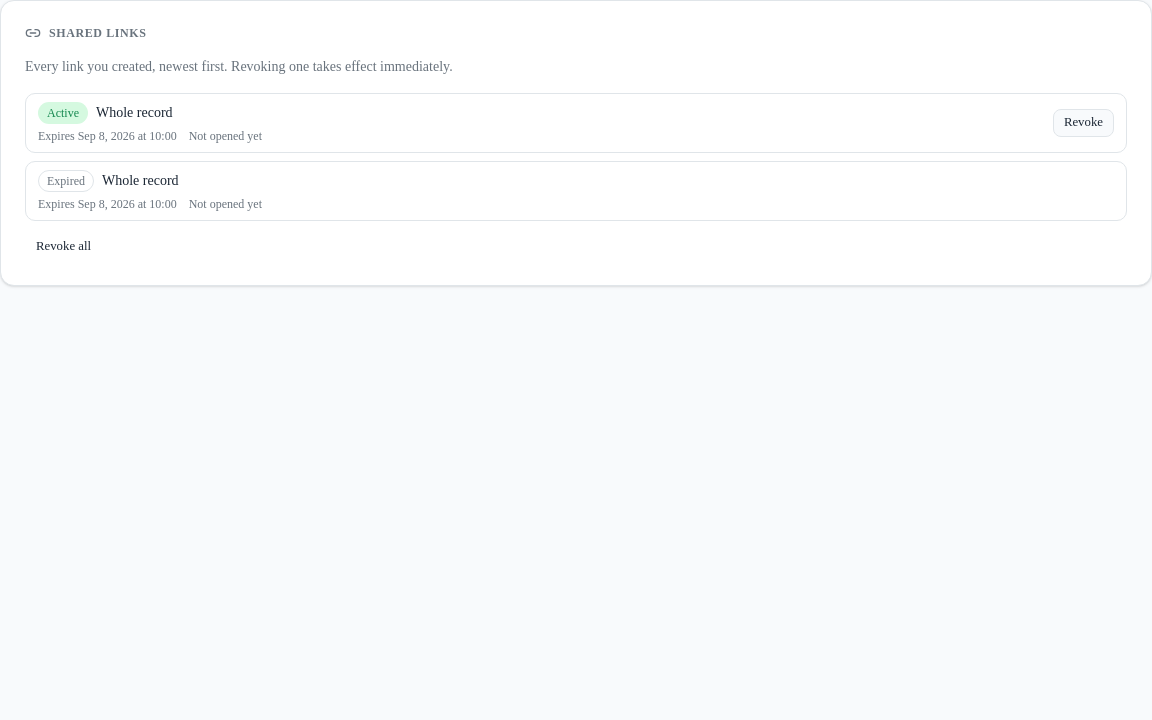
Test: ShareLinksCard › revokes everything only after a confirmation, and only while something is active
The image size is (1152, 720).
Click the button "Revoke all" at (64, 247), box [25,233,102,261]
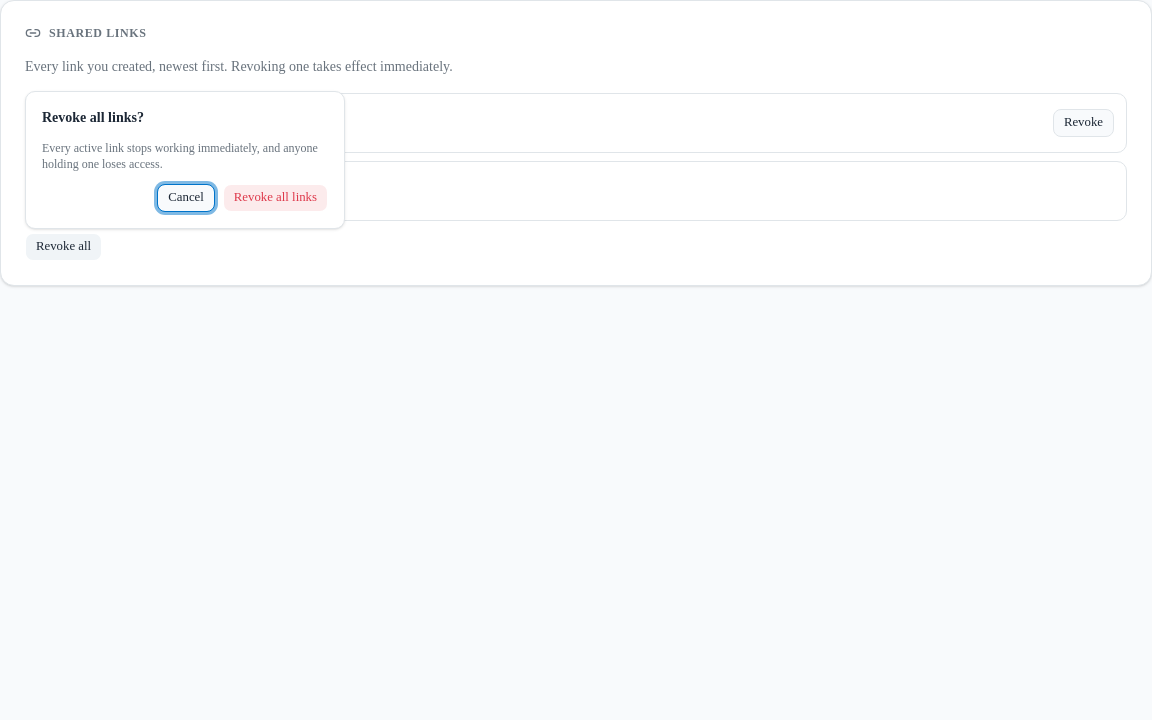
Click the button with test id "share-revoke-all-confirm-button" at (275, 198), box [223,184,328,212]
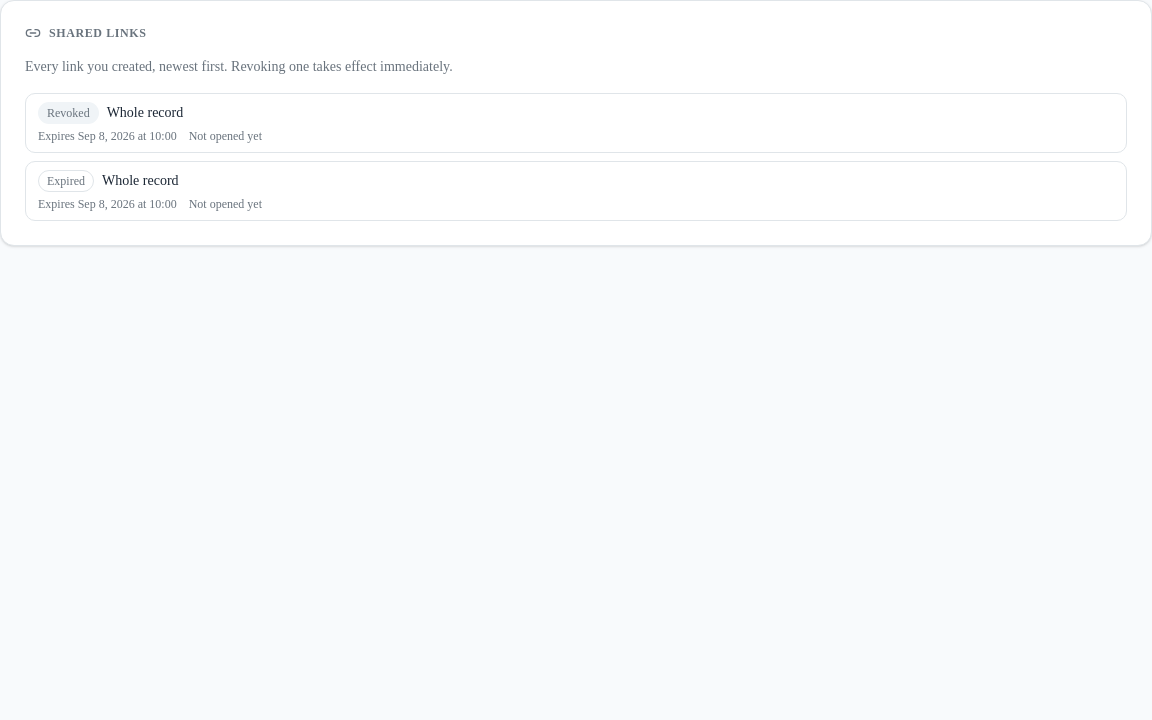
Now the button "Revoke all" is gone
